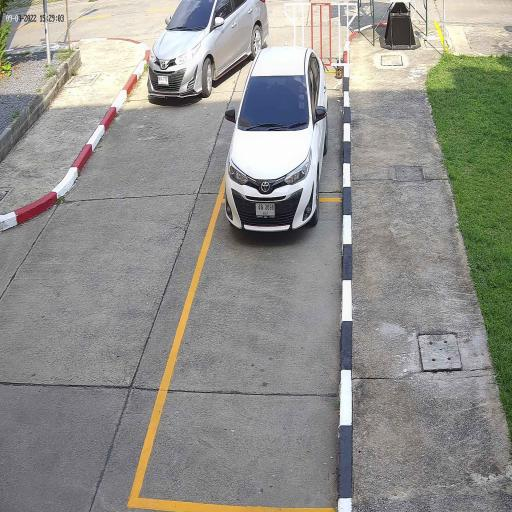car: (224, 44, 329, 234), (146, 0, 271, 104)
